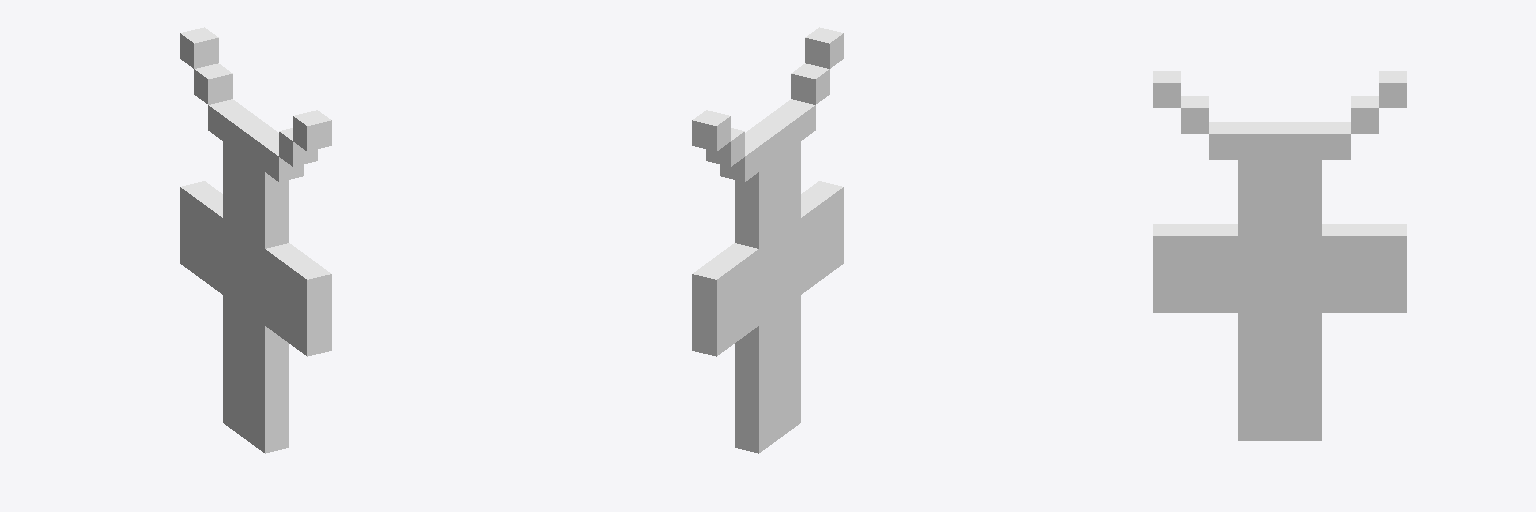
File: Cruifix.obj
The picture shows the model from 3 angles: view 1: azimuth 30°, elevation 25°; view 2: azimuth 150°, elevation 25°; view 3: azimuth 270°, elevation 25°; orthographic projection.
Bounding box in the file's own units: 1 × 14 × 9.